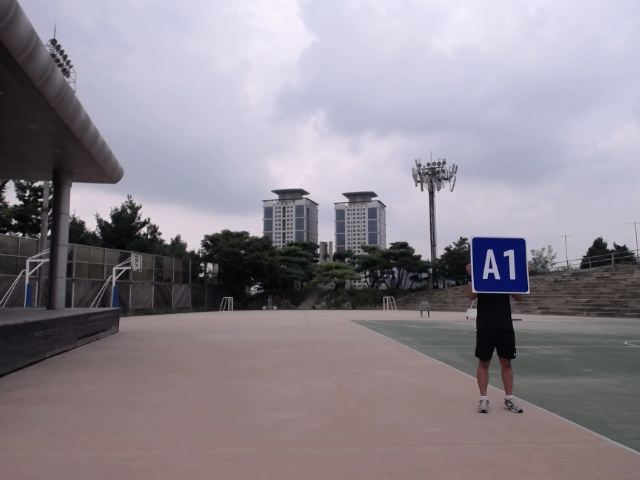delivery_a1: (471, 237, 529, 293)
